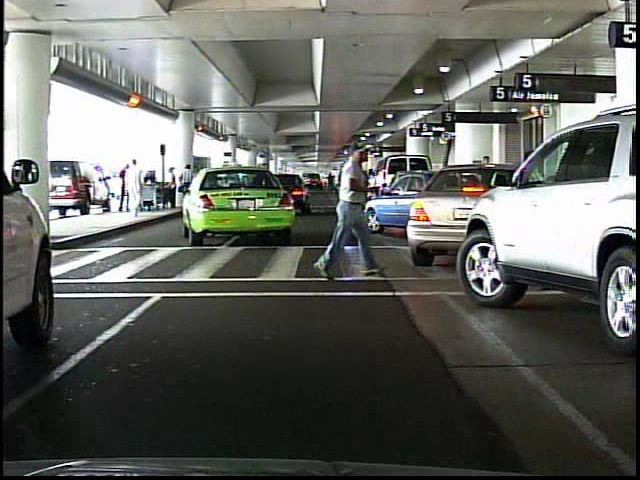person: (314, 141, 383, 284)
